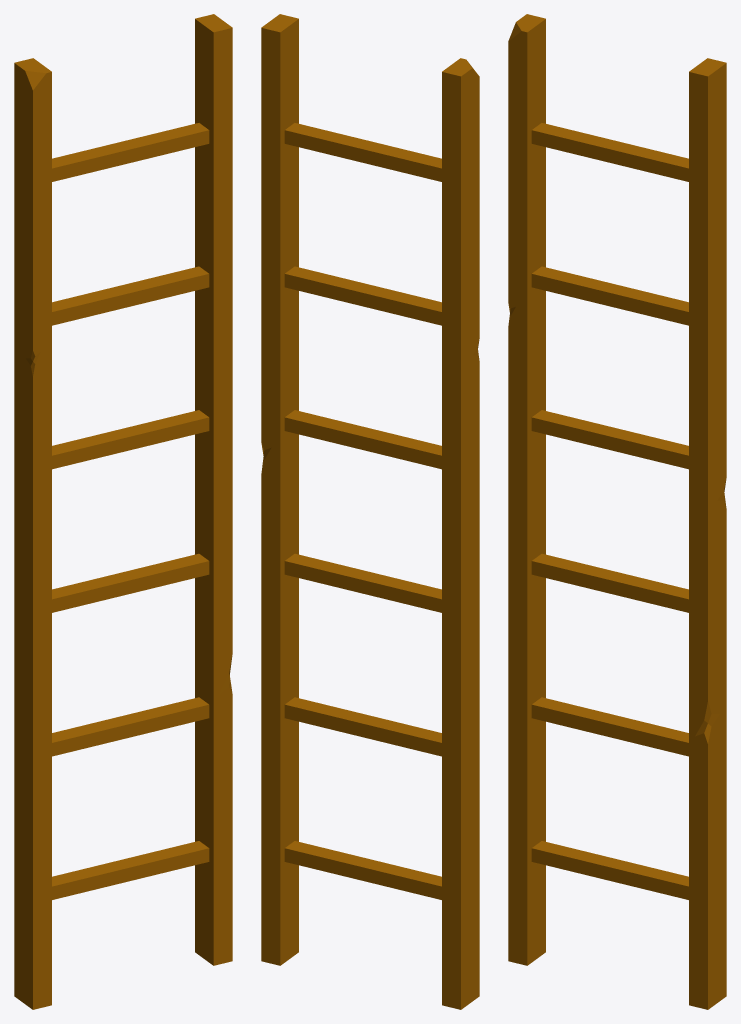
Rendered from Ladder_01.fbx.
3 renders of one model, left to right at view 1: azimuth 30°, elevation 25°; view 2: azimuth 150°, elevation 25°; view 3: azimuth 330°, elevation 25°, orthographic.
Parts seen in each view (by area): view 1: Ladder_01; view 2: Ladder_01; view 3: Ladder_01.
Boxes of the visible parts, <box> form: Ladder_01: <box>14,14,232,1009</box>; Ladder_01: <box>261,14,479,1009</box>; Ladder_01: <box>508,14,726,1009</box>.
Bounding box in the file's own units: 50.47 × 225 × 8.21.
